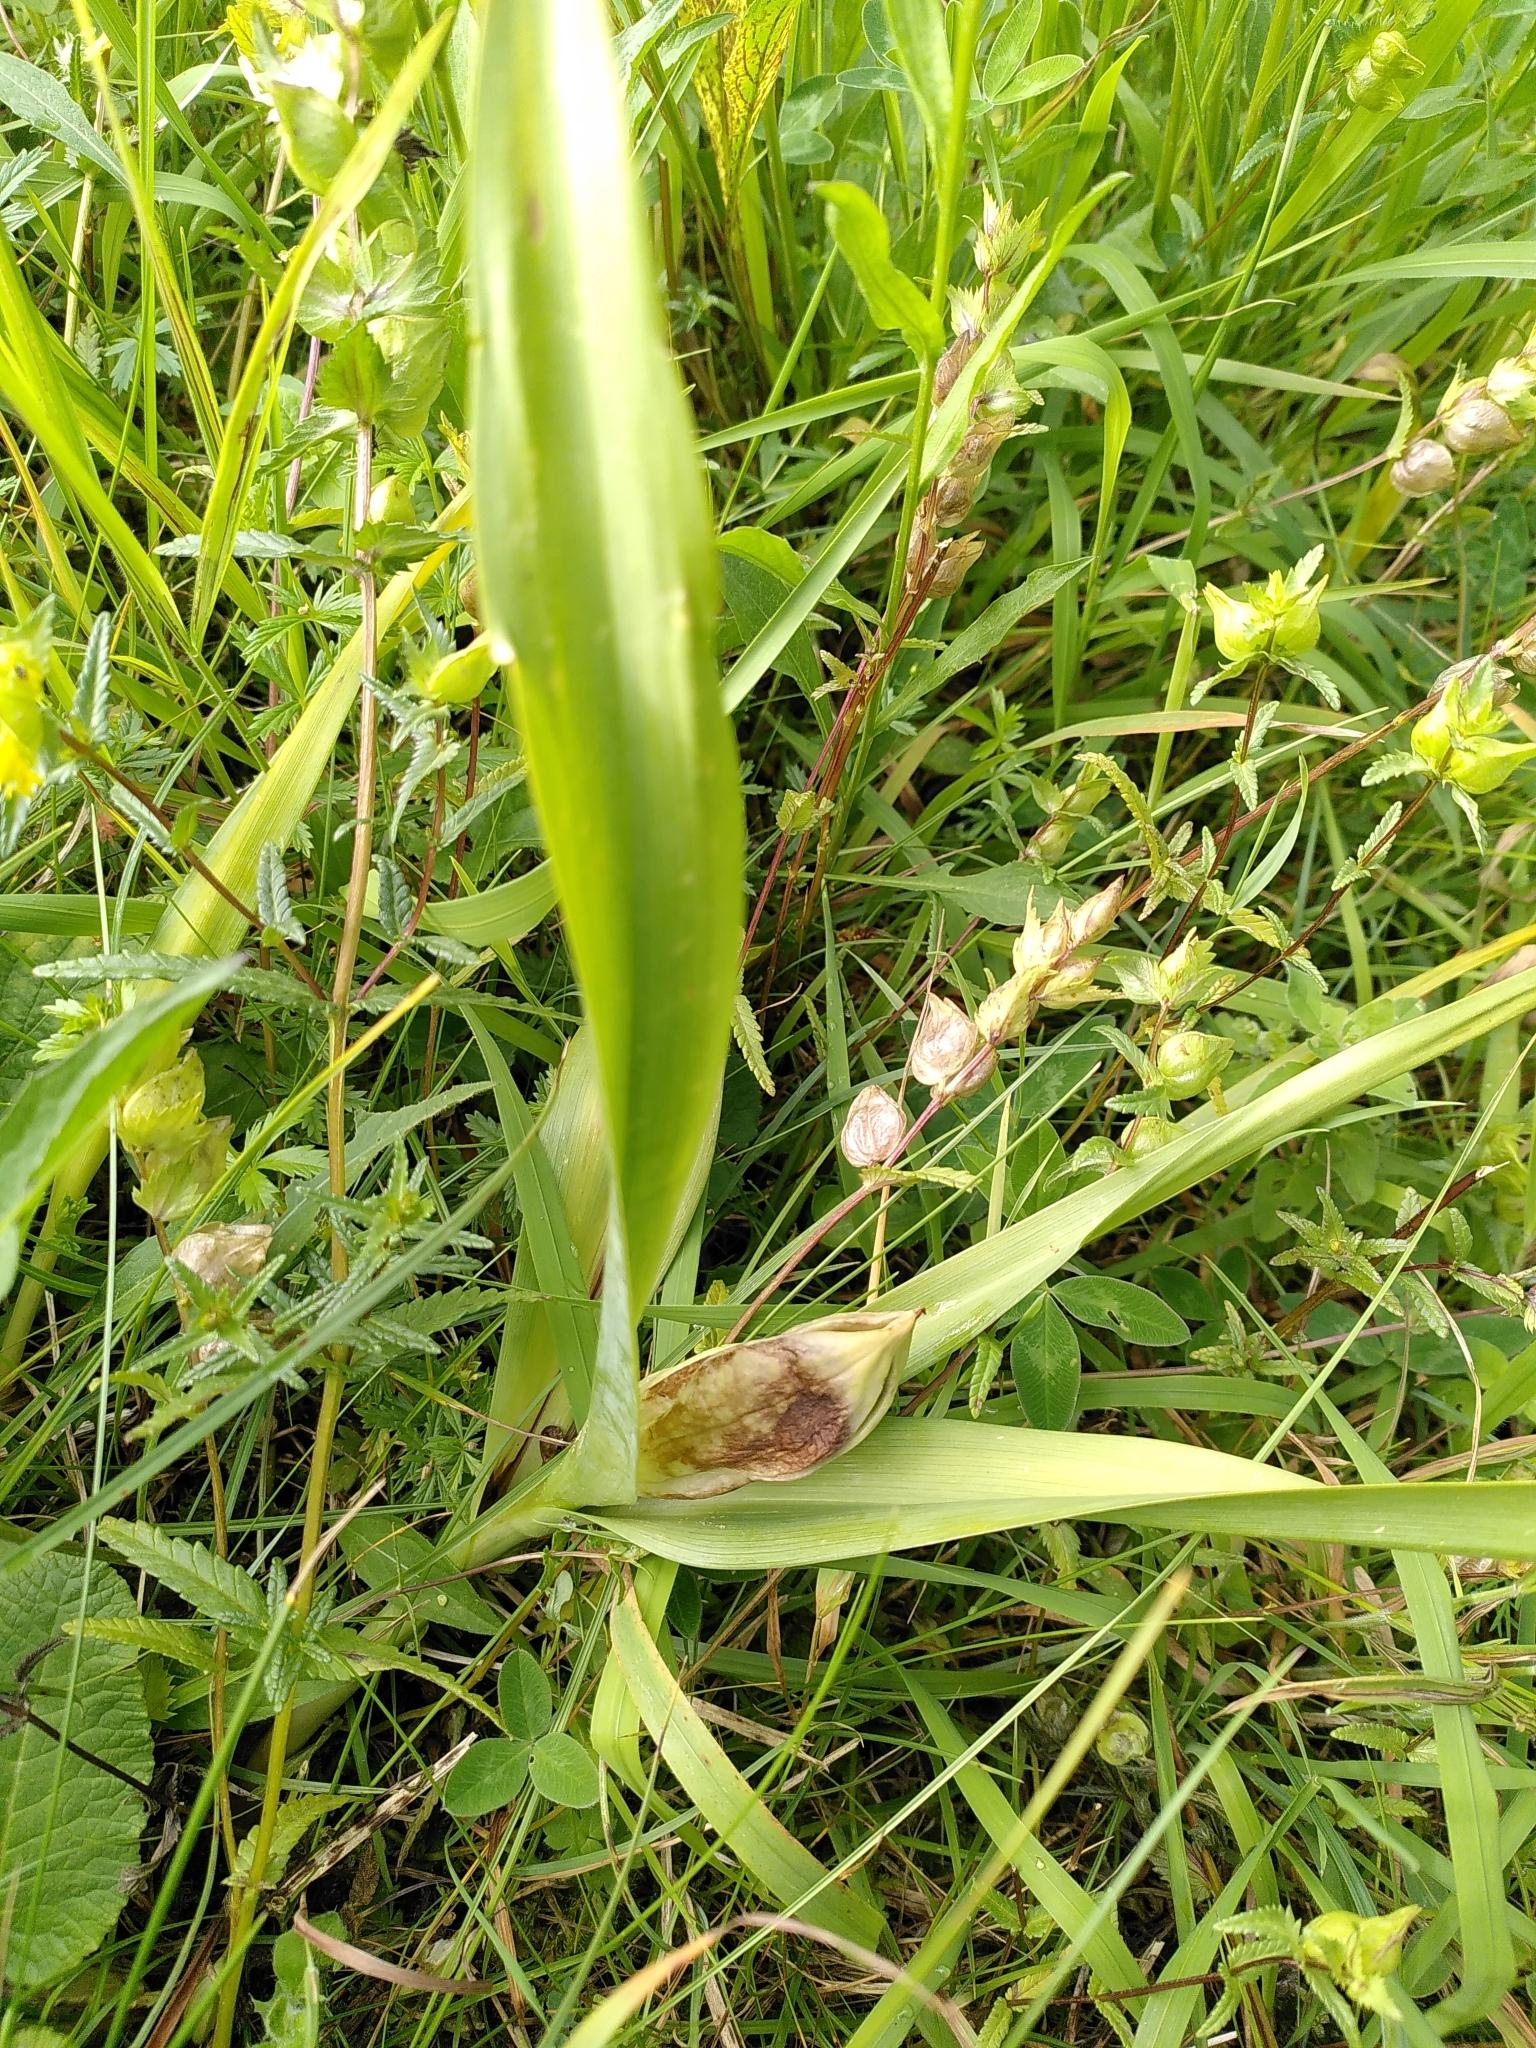Colchicum autumnale L: (428, 19, 1536, 1621)
